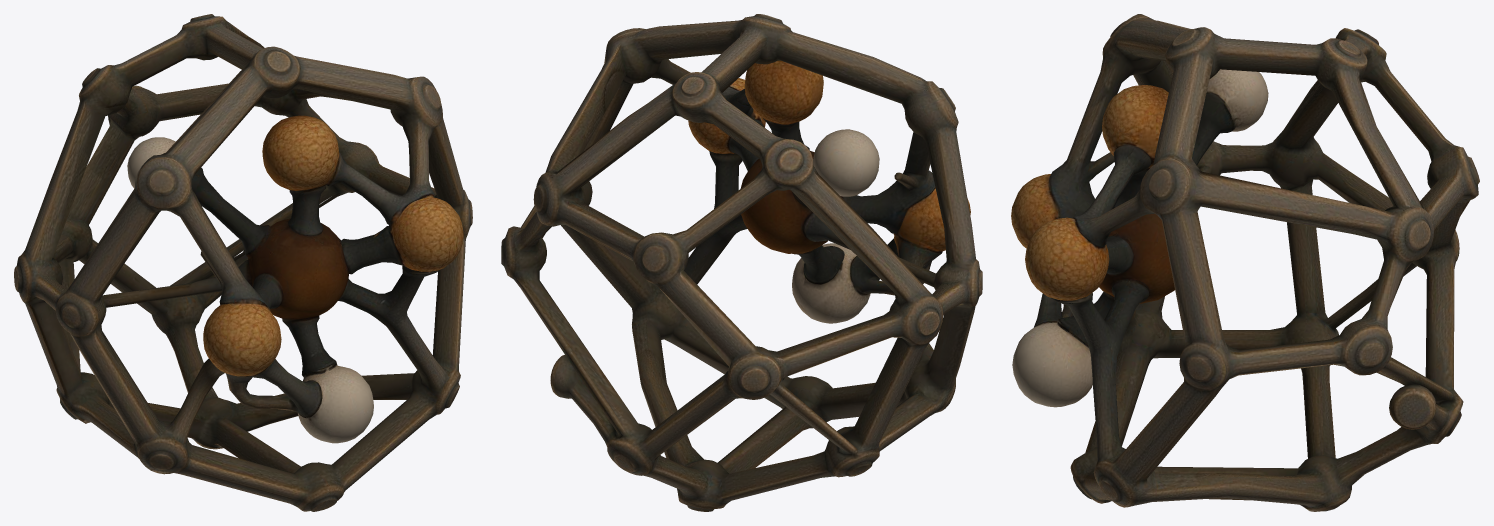
File: thought-graph-reliquary.glb
3 renders of one model, left to right at view 1: azimuth 30°, elevation 25°; view 2: azimuth 150°, elevation 25°; view 3: azimuth 270°, elevation 25°, orthographic. The views are drawn at different scales.
Parts seen in each view (by area): view 1: fd6b33f6_622b_48a7_9b53_52631c645d01; view 2: fd6b33f6_622b_48a7_9b53_52631c645d01; view 3: fd6b33f6_622b_48a7_9b53_52631c645d01.
Part boxes in pixels (x1=…): fd6b33f6_622b_48a7_9b53_52631c645d01: x1=14, y1=14, x2=472, y2=511; fd6b33f6_622b_48a7_9b53_52631c645d01: x1=501, y1=14, x2=982, y2=511; fd6b33f6_622b_48a7_9b53_52631c645d01: x1=1011, y1=14, x2=1479, y2=511.
Bounding box in the file's own units: 0.9995 × 0.9995 × 0.8892.
Materials: 1 (1 with a texture image).
